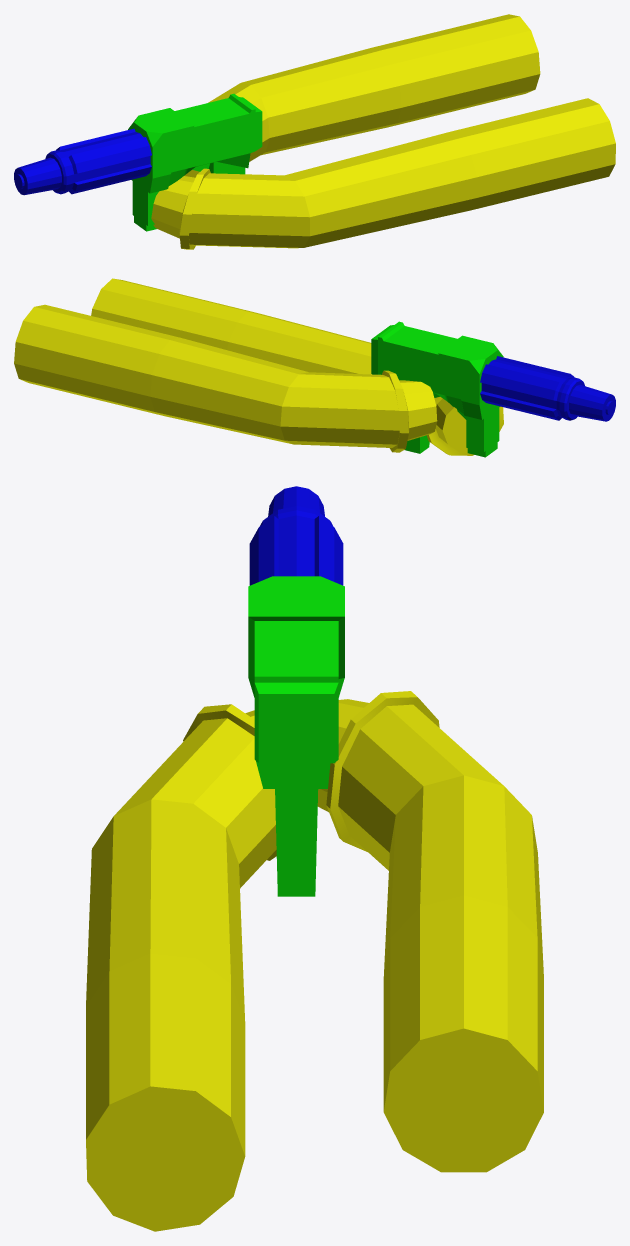
Rendered from armsngun.mb.fbx.
3 renders of one model, top to bottom at view 1: azimuth 30°, elevation 25°; view 2: azimuth 150°, elevation 25°; view 3: azimuth 270°, elevation 25°, orthographic. The views are drawn at different scales.
Visible parts, largest first — view 1: pCylinder3, pCylinder2, pCube1, pCylinder1; view 2: pCylinder2, pCylinder3, pCube1, pCylinder1; view 3: pCylinder3, pCylinder2, pCube1, pCylinder1.
Boxes of the visible parts, x1,y1,x2,y2 form: pCylinder3: (151, 98, 615, 249); pCylinder2: (184, 14, 540, 177); pCube1: (128, 93, 262, 231); pCylinder1: (14, 128, 151, 195); pCylinder2: (14, 304, 437, 452); pCylinder3: (91, 278, 503, 455); pCube1: (371, 321, 503, 457); pCylinder1: (480, 356, 615, 421); pCylinder3: (86, 704, 276, 1231); pCylinder2: (317, 691, 543, 1172); pCube1: (248, 576, 344, 896); pCylinder1: (249, 486, 343, 585).
Size of the model in its own units: 29.88 by 6.66 by 11.07.
